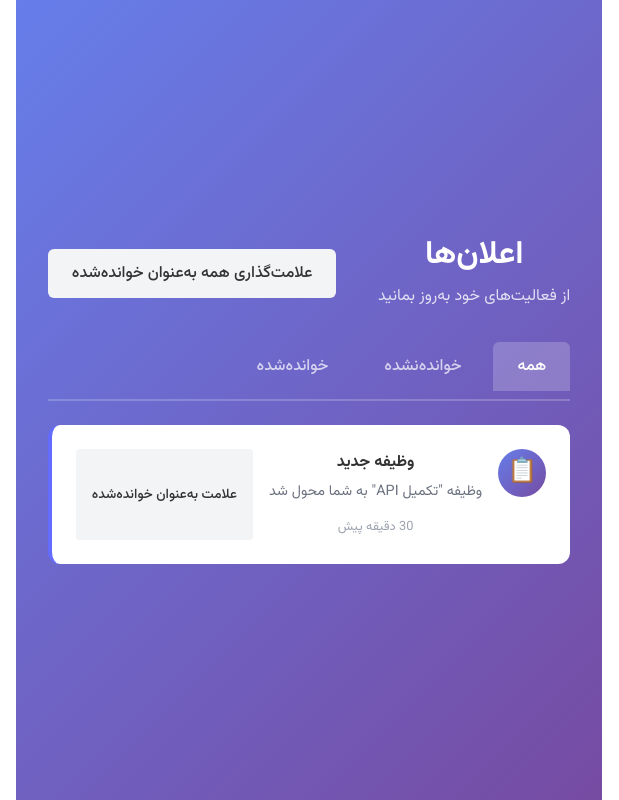
Test: NotificationsList › Mark as read › marks single notification as read when button is clicked
The width and height of the screenshot is (619, 800).
Expected: the heading "وظیفه جدید" is shown, 337,450 -> 414,475
What coordinates should you click on to do the following:
click the button "علامت به‌عنوان خوانده‌شده"
I would click on:
 (164, 494)
Its box is 76,449 -> 253,540.
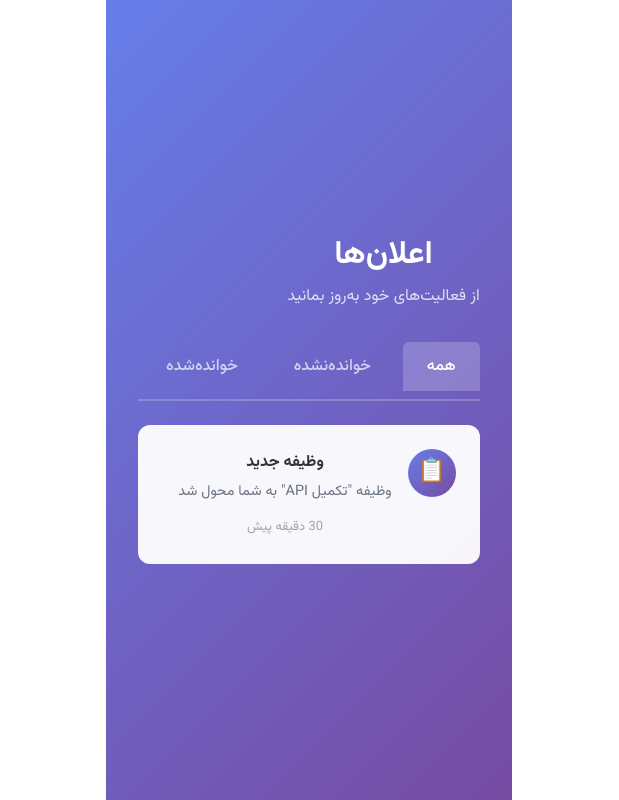
Expected: the button "علامت به‌عنوان خوانده‌شده" is gone
